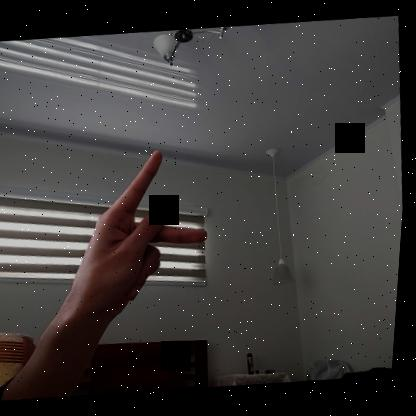K: (64, 143, 221, 323)
